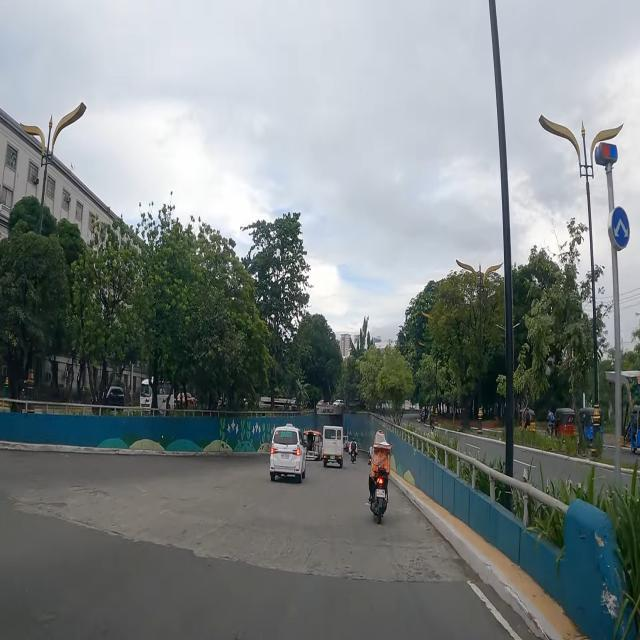bike: (544, 408, 555, 442)
bus: (140, 376, 174, 416)
car: (269, 422, 308, 484)
jeepney: (303, 429, 323, 462)
motorcycle: (367, 429, 393, 525), (349, 438, 356, 465)
tricycle: (578, 408, 601, 447), (554, 407, 576, 441), (630, 404, 640, 452)
truck: (323, 426, 343, 468)
